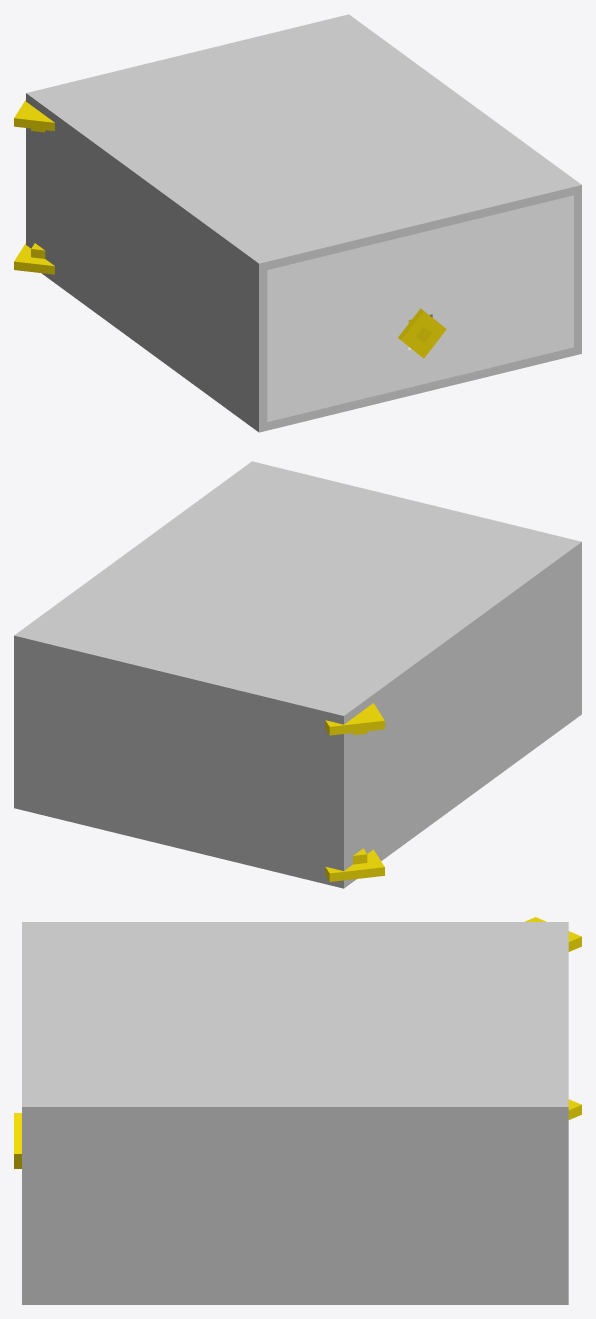
File: EB_chamber.glb
The picture shows the model from 3 angles, top to bottom: view 1: azimuth 30°, elevation 25°; view 2: azimuth 150°, elevation 25°; view 3: azimuth 270°, elevation 25°; orthographic projection. The views are drawn at different scales.
Parts seen in each view (by area): view 1: walls_main, wall_front_top, wall_front_right.1, wall_front_right, wall_front_right.2, exit, DOOR; view 2: walls_main, exit; view 3: walls_main, exit.
Boxes of the visible parts, bbox=[...] form: walls_main: bbox=[26, 14, 581, 432]; wall_front_top: bbox=[267, 195, 573, 354]; wall_front_right.1: bbox=[267, 320, 408, 421]; wall_front_right: bbox=[429, 280, 573, 381]; wall_front_right.2: bbox=[351, 329, 492, 401]; exit: bbox=[14, 100, 54, 274]; DOOR: bbox=[398, 308, 446, 358]; walls_main: bbox=[14, 461, 581, 888]; exit: bbox=[325, 703, 384, 881]; walls_main: bbox=[22, 922, 568, 1304]; exit: bbox=[524, 917, 581, 1119].
Size of the model in its own units: 4.32 by 2 by 5.2.
